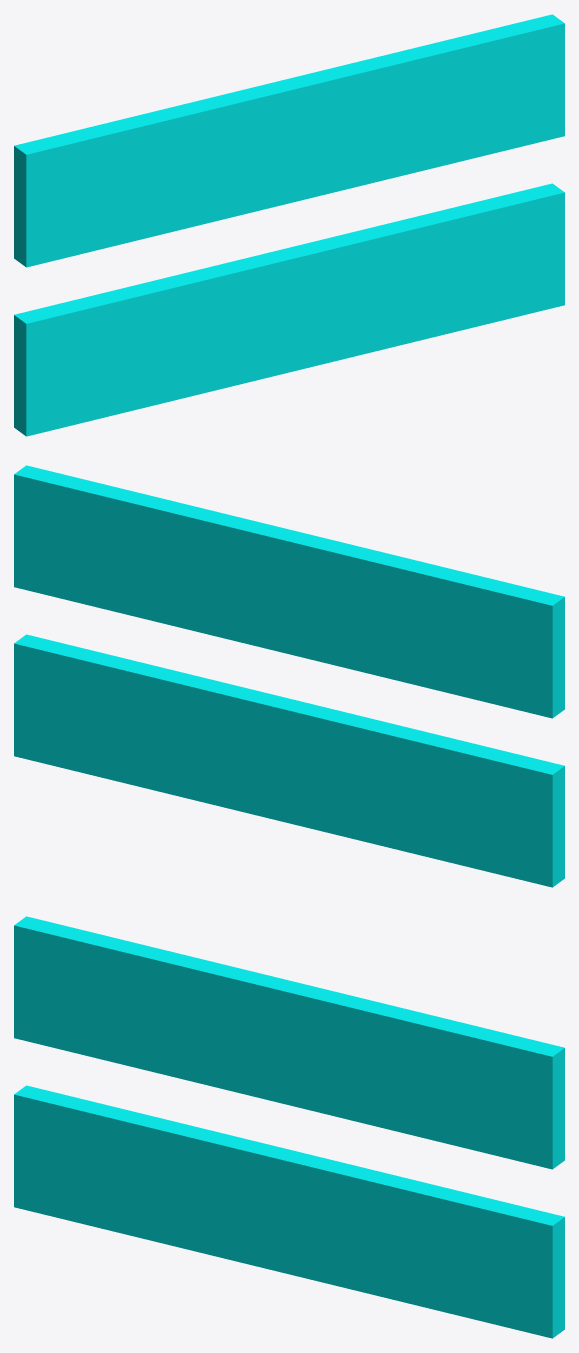
File: Mo_FB_Whisker_Medium.fbx
The picture shows the model from 3 angles, top to bottom: view 1: azimuth 30°, elevation 25°; view 2: azimuth 150°, elevation 25°; view 3: azimuth 330°, elevation 25°; orthographic projection.
Parts seen in each view (by area): view 1: Whisker; view 2: Whisker; view 3: Whisker.
Boxes of the visible parts, x1,y1,x2,y2 form: Whisker: [14, 14, 564, 436]; Whisker: [14, 465, 564, 887]; Whisker: [14, 916, 564, 1338].
Bounding box in the file's own units: 31.25 × 15.62 × 1.25.
